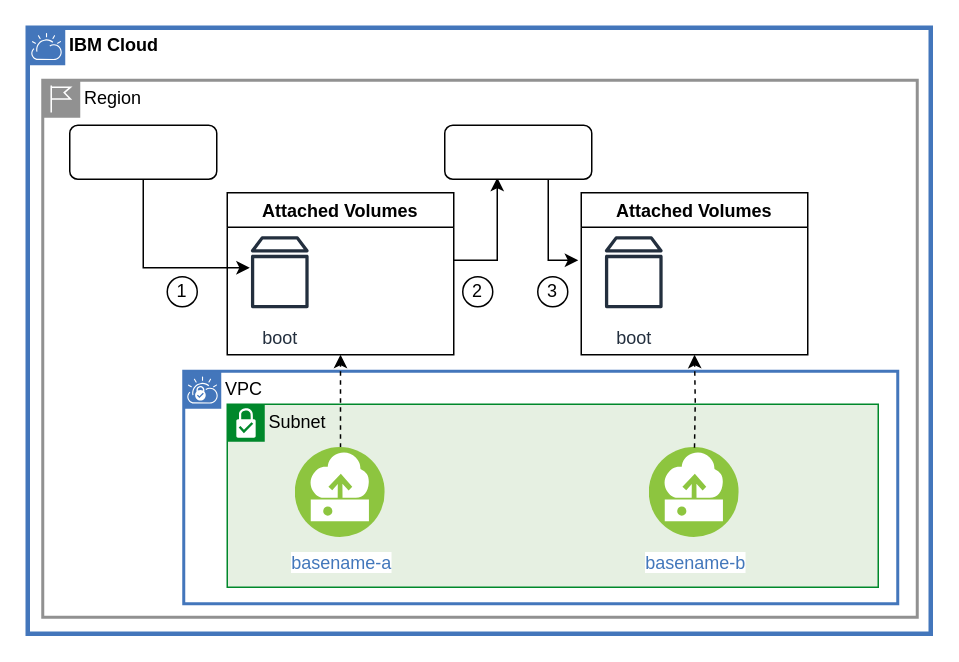
Some shapes in this 959 by 662 pixel diagram are drawn without their labels. Each missing label, with the centre of its shape:
IBM Images: (142,151)
Images: (517,151)
